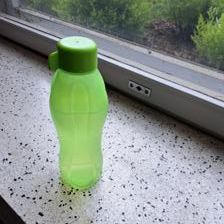bottle: (48, 35, 108, 188)
